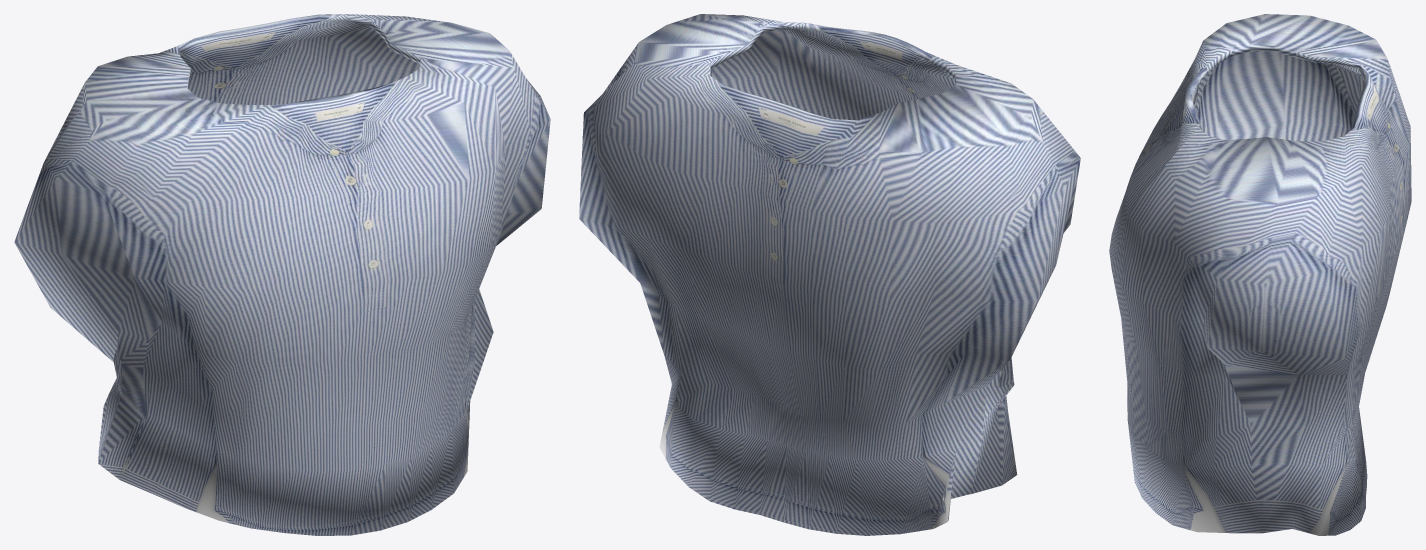
Rendered from 09bb3d69-3362-454a-81bb-9720398fae14.glb.
3 views of the same model, side by side, from view 1: azimuth 30°, elevation 25°; view 2: azimuth 150°, elevation 25°; view 3: azimuth 270°, elevation 25° (orthographic). The views are drawn at different scales.
Parts seen in each view (by area): view 1: garment; view 2: garment; view 3: garment.
Boxes of the visible parts, x1,y1,x2,y2 form: garment: (14,14,550,535); garment: (579,14,1080,535); garment: (1109,14,1411,535).
Bounding box in the file's own units: 0.5483 × 0.4613 × 0.3221.
Materials: 1 (1 with a texture image).
